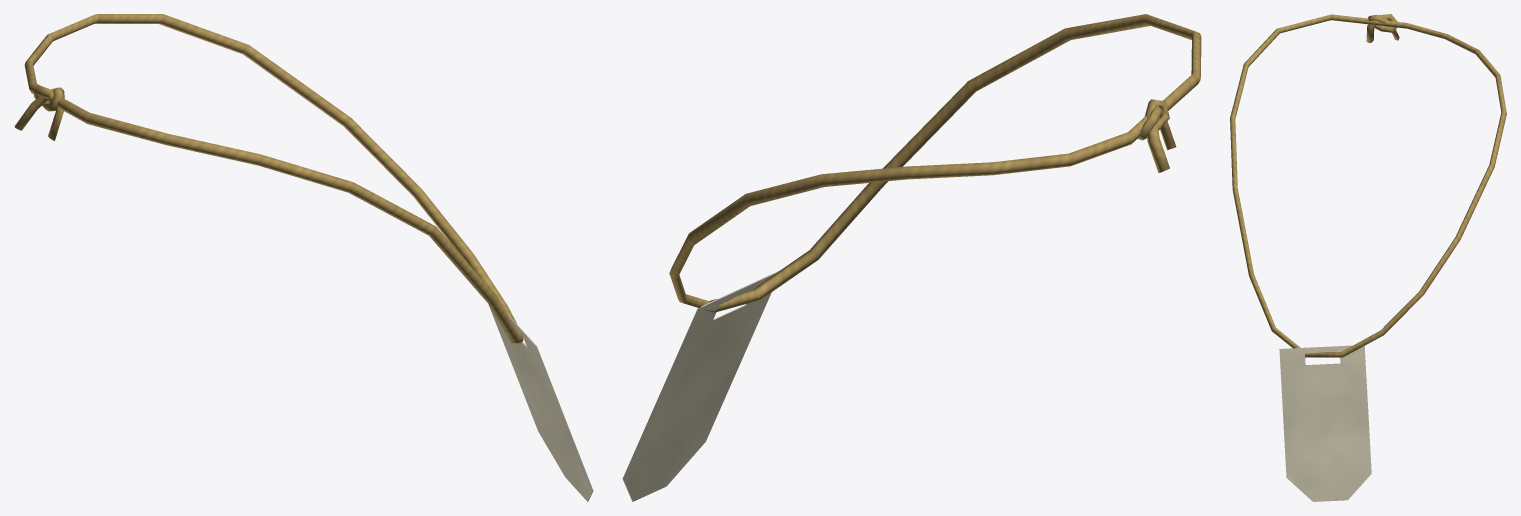
The model's file is tag-conical.glb.
3 views of the same model, side by side, from view 1: azimuth 30°, elevation 25°; view 2: azimuth 150°, elevation 25°; view 3: azimuth 270°, elevation 25° (orthographic). The views are drawn at different scales.
Parts seen in each view (by area): view 1: string-conical, tag-conical; view 2: string-conical, tag-conical; view 3: tag-conical, string-conical.
Part boxes in pixels (x1,y1,x2,y2): string-conical: (14, 14, 523, 343); tag-conical: (489, 305, 593, 501); string-conical: (669, 14, 1201, 312); tag-conical: (622, 270, 780, 501); tag-conical: (1279, 345, 1371, 501); string-conical: (1230, 14, 1506, 357).
Size of the model in its own units: 0.0592 by 0.0546 by 0.0414.
2 materials, 2 textured.
